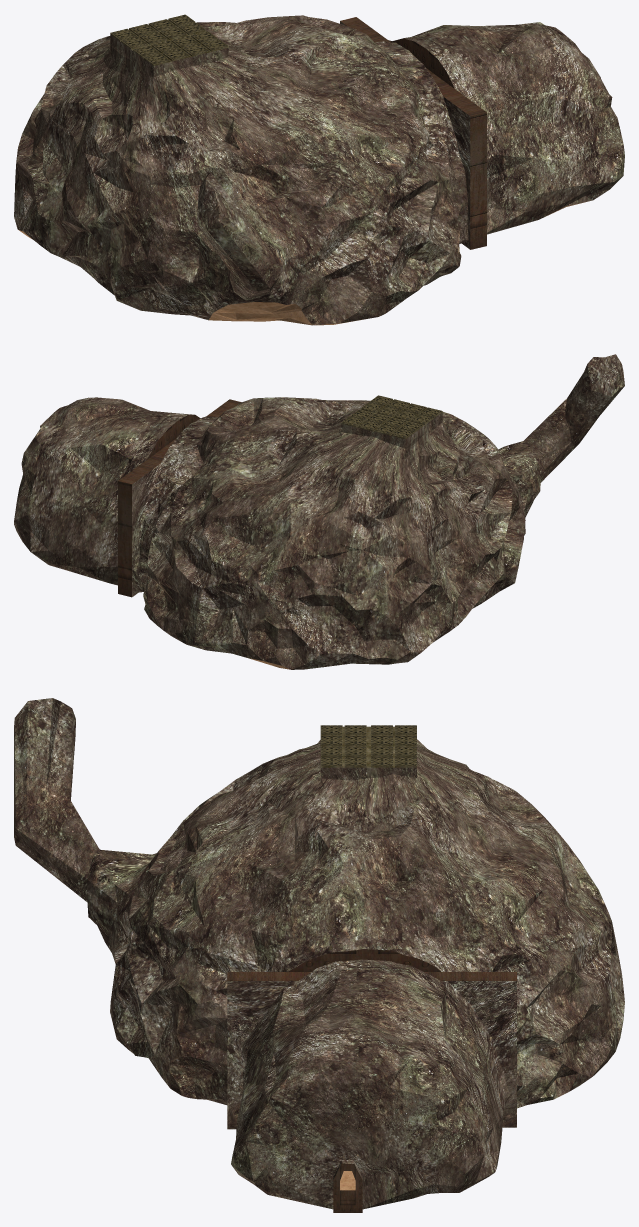
File: thm_tato_jabbas_palace_r42_rancorpit_mesh_r42.fbx
3 renders of one model, top to bottom at view 1: azimuth 30°, elevation 25°; view 2: azimuth 150°, elevation 25°; view 3: azimuth 270°, elevation 25°, orthographic. The views are drawn at different scales.
Visible parts, largest first — view 1: mesh_node; view 2: mesh_node; view 3: mesh_node.
Part boxes in pixels (x1,y1,x2,y2): mesh_node: [14, 14, 624, 325]; mesh_node: [14, 354, 624, 669]; mesh_node: [14, 698, 624, 1212].
Size of the model in its own units: 32.09 by 13.12 by 29.13.
